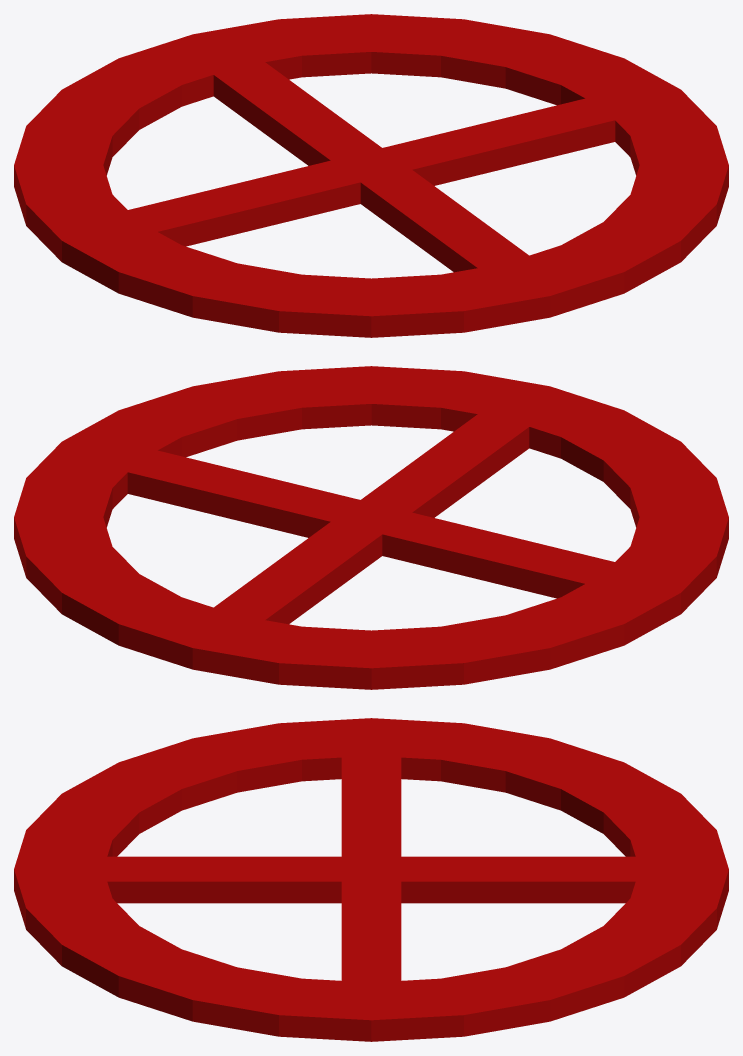
Rendered from target.glb.
The picture shows the model from 3 angles, top to bottom: view 1: azimuth 30°, elevation 25°; view 2: azimuth 150°, elevation 25°; view 3: azimuth 270°, elevation 25°; orthographic projection.
Parts seen in each view (by area): view 1: Mesh_Mesh_head_geo.001_lambert2SG.001; view 2: Mesh_Mesh_head_geo.001_lambert2SG.001; view 3: Mesh_Mesh_head_geo.001_lambert2SG.001.
Part boxes in pixels (x1,y1,x2,y2): Mesh_Mesh_head_geo.001_lambert2SG.001: (14,14,728,337); Mesh_Mesh_head_geo.001_lambert2SG.001: (14,366,728,689); Mesh_Mesh_head_geo.001_lambert2SG.001: (14,718,728,1041).
Size of the model in its own units: 0.15 by 0.005 by 0.15.
